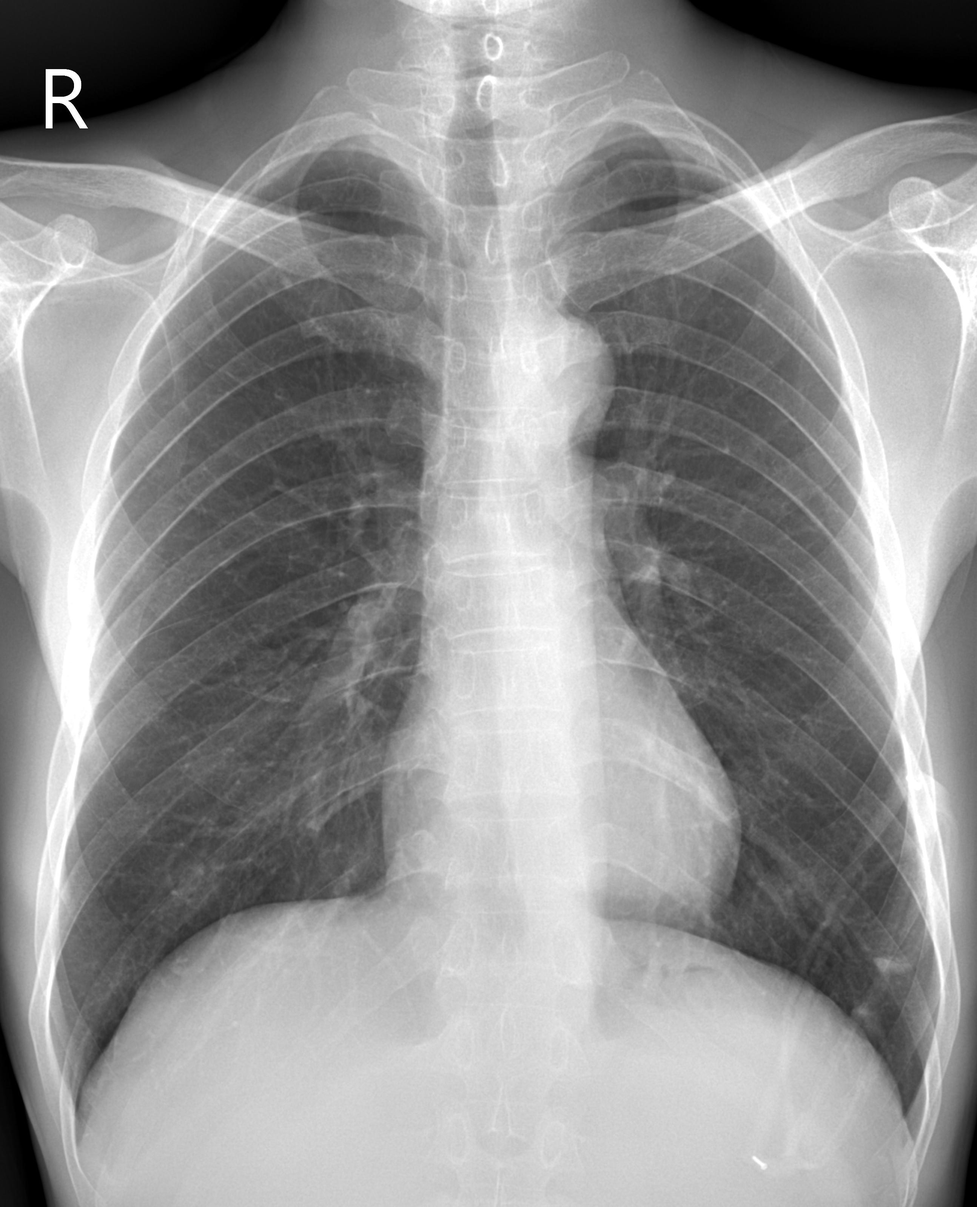Pleural thickening: (223, 147, 307, 209), (669, 133, 753, 194)
